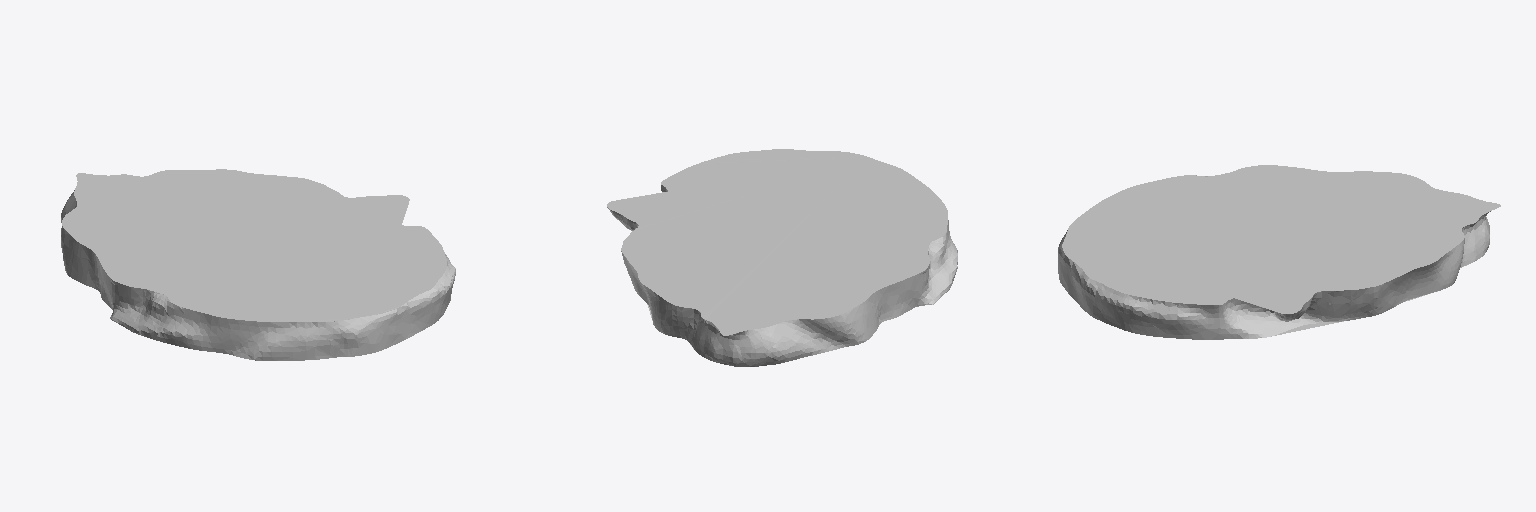
The picture shows the model from 3 angles: view 1: azimuth 30°, elevation 25°; view 2: azimuth 150°, elevation 25°; view 3: azimuth 270°, elevation 25°; orthographic projection.
Visible parts, largest first — view 1: low.014_Fotogrametria_MarioGomes_V01_Model_2.015; view 2: low.014_Fotogrametria_MarioGomes_V01_Model_2.015; view 3: low.014_Fotogrametria_MarioGomes_V01_Model_2.015.
Part boxes in pixels (x1,y1,x2,y2): low.014_Fotogrametria_MarioGomes_V01_Model_2.015: (61, 169, 455, 360); low.014_Fotogrametria_MarioGomes_V01_Model_2.015: (607, 149, 957, 366); low.014_Fotogrametria_MarioGomes_V01_Model_2.015: (1058, 165, 1500, 339).
Size of the model in its own units: 1.84 by 0.2011 by 2.28.